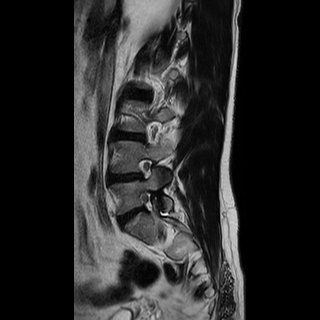RFS0: (131, 152, 157, 184), (135, 187, 159, 218)
